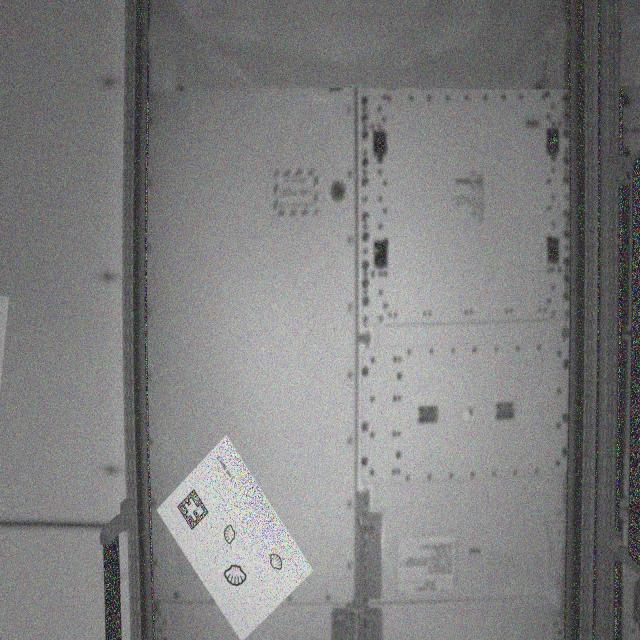shell: (224, 563, 251, 588), (223, 525, 239, 546), (270, 553, 285, 574)
